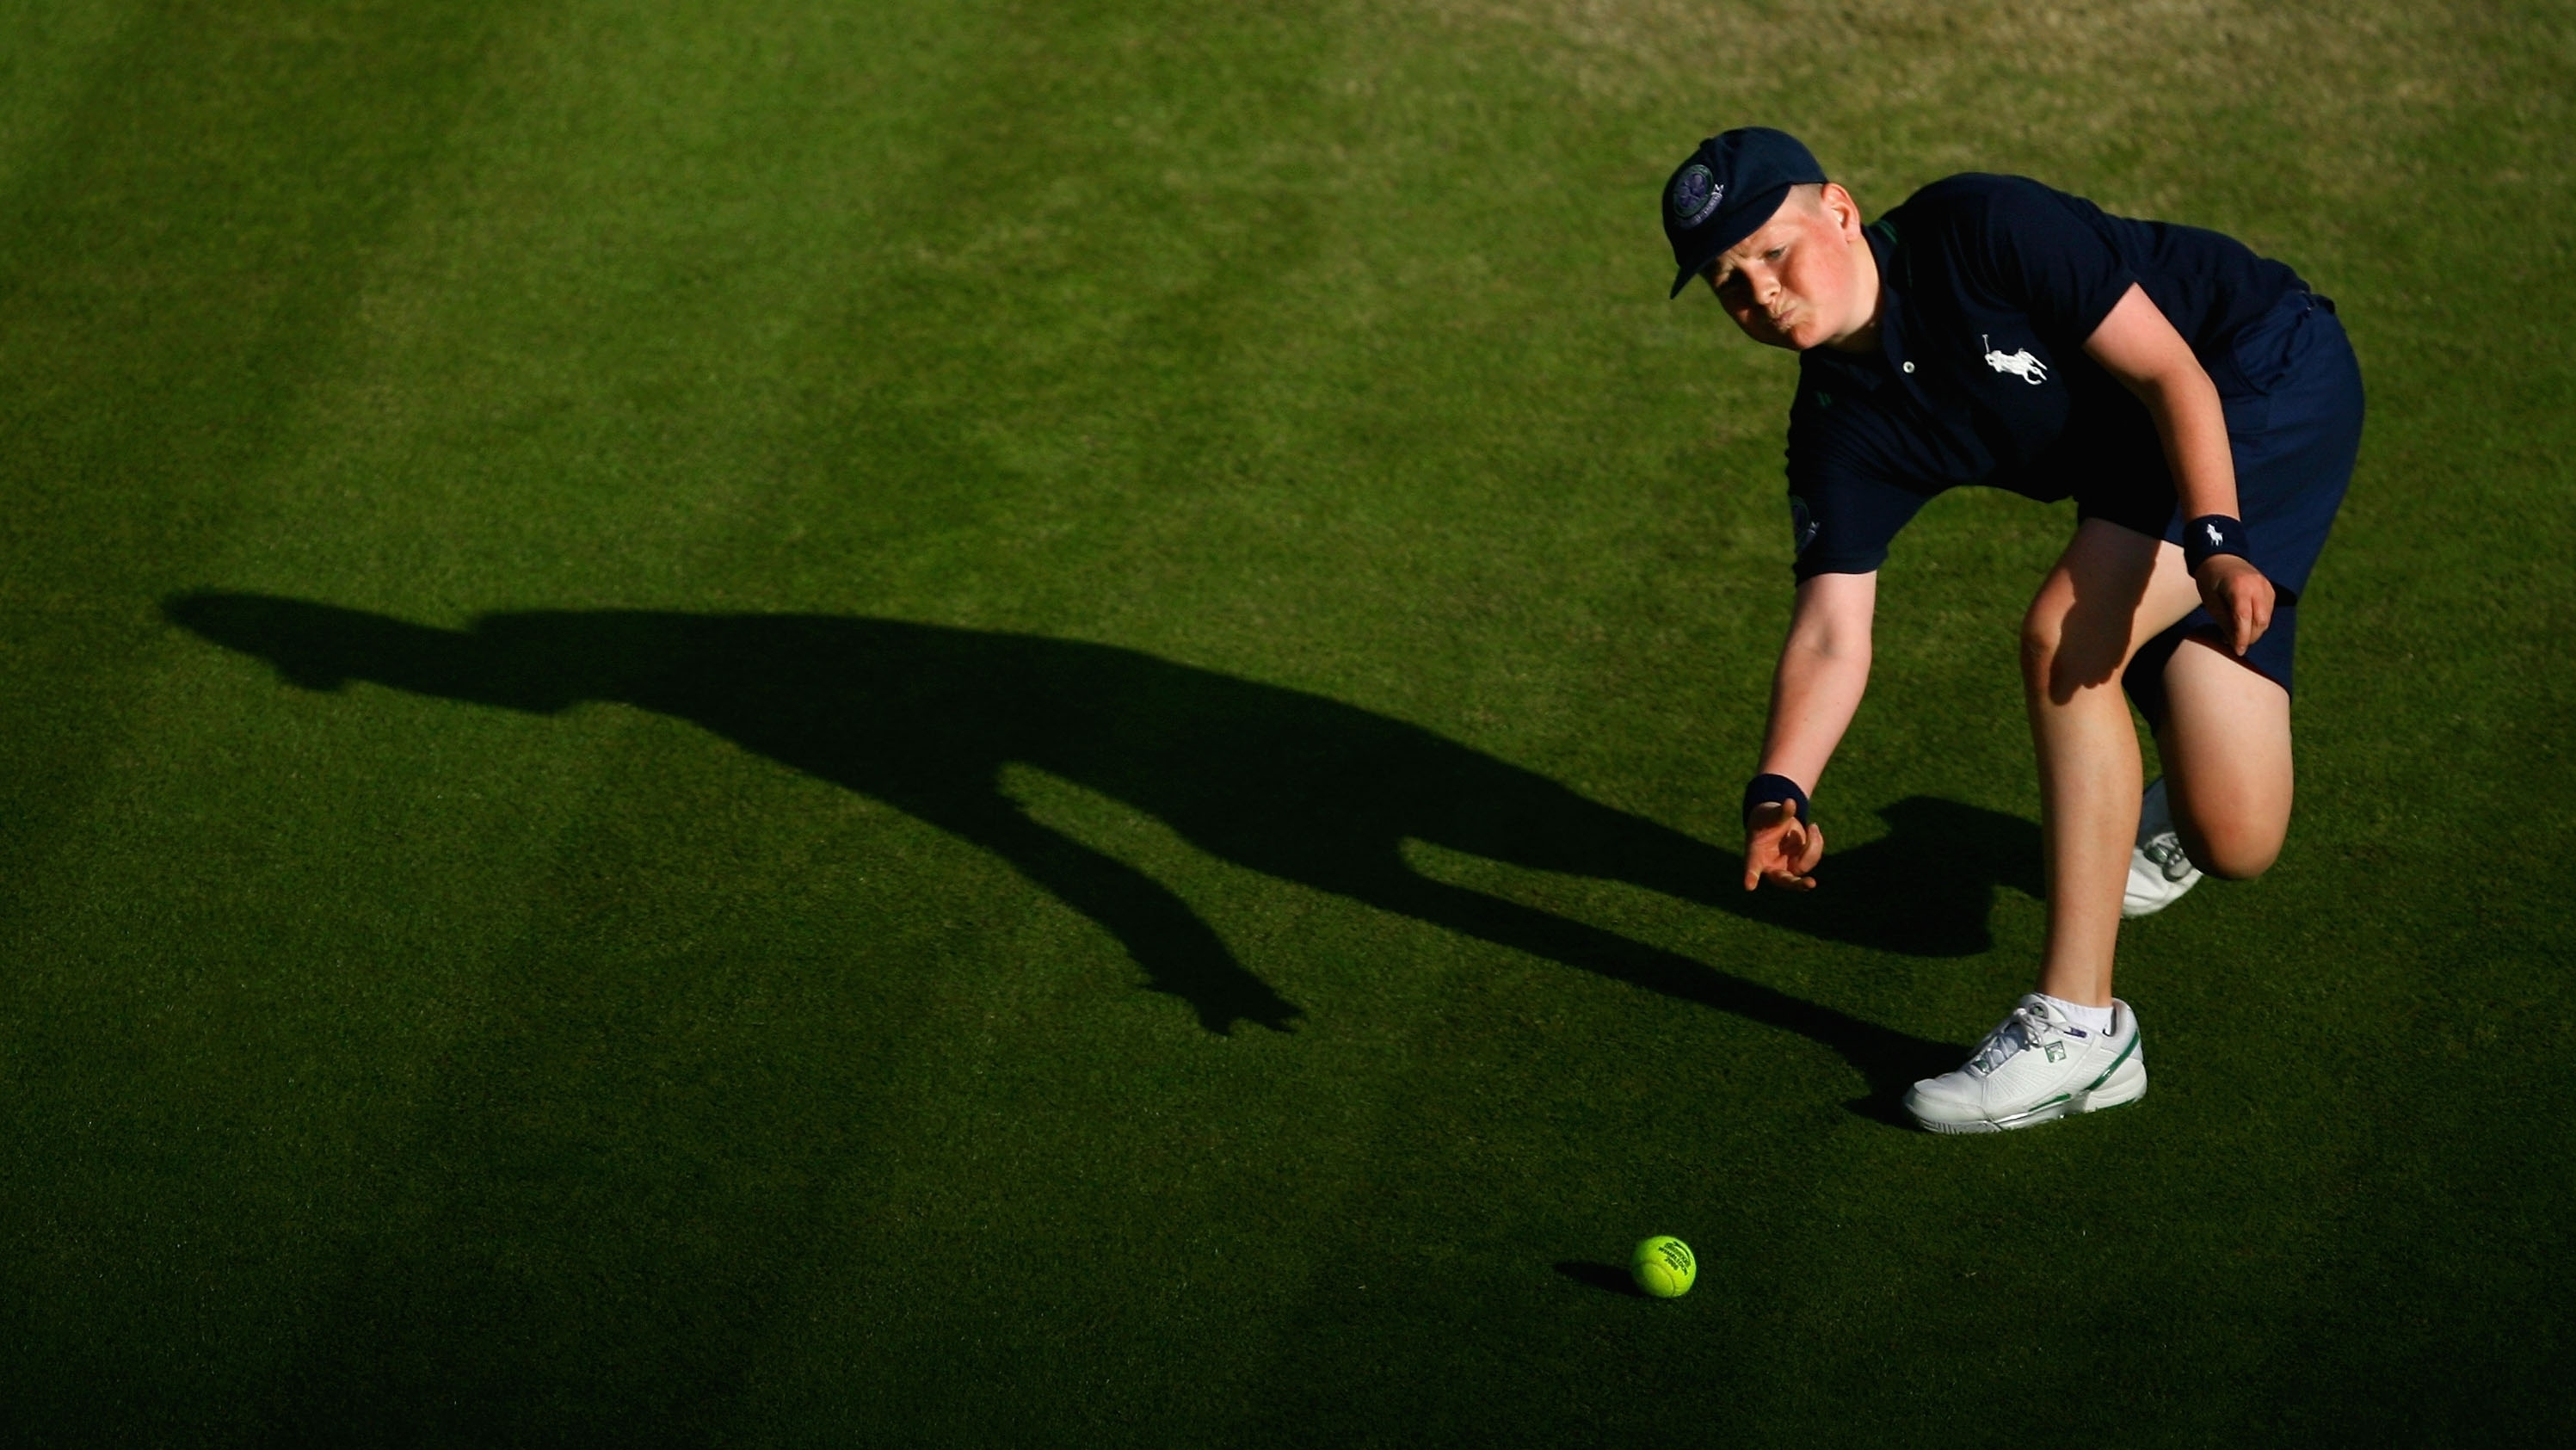tennis_ball: (1622, 1222, 1711, 1319)
